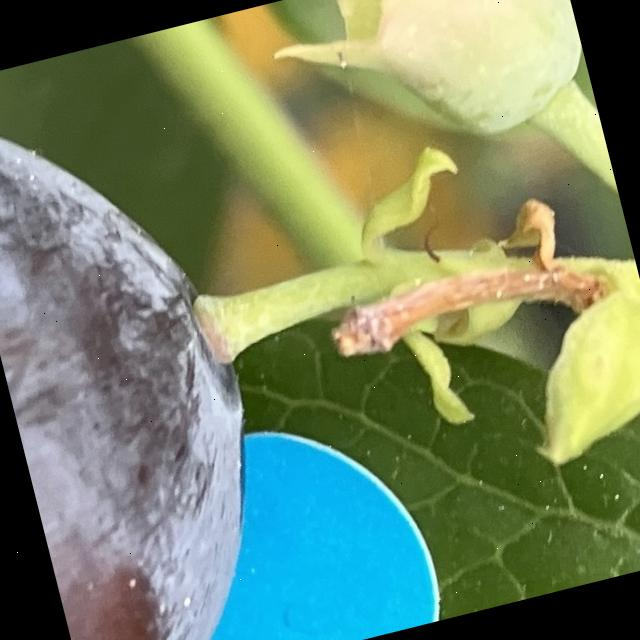Blueberries: (0, 35, 312, 640)
